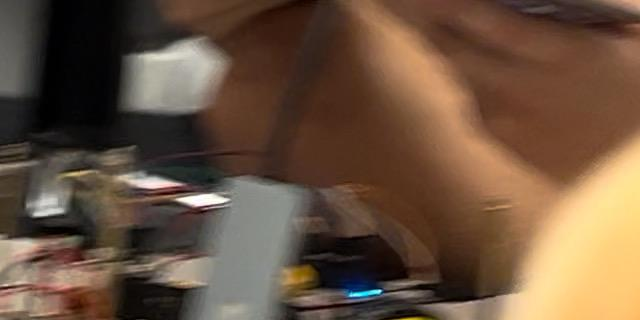burger: (408, 9, 640, 320)
